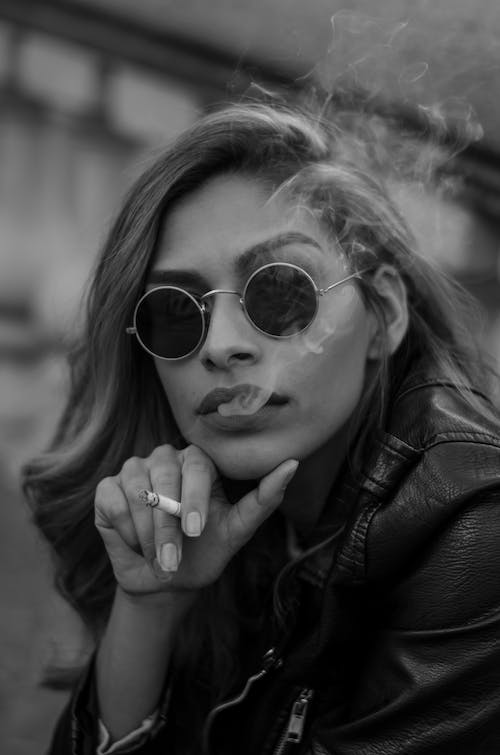cigarette: (132, 486, 184, 523)
